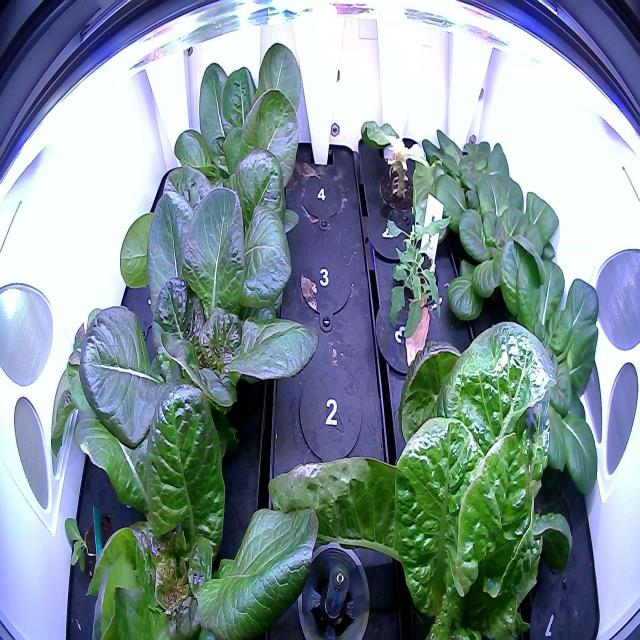empty_pod: (292, 352, 368, 478), (293, 240, 357, 324), (292, 163, 348, 230)
young: (67, 158, 319, 457), (52, 373, 324, 637), (114, 77, 306, 300), (474, 239, 612, 496), (158, 30, 307, 210), (444, 160, 572, 333), (406, 119, 522, 238)
